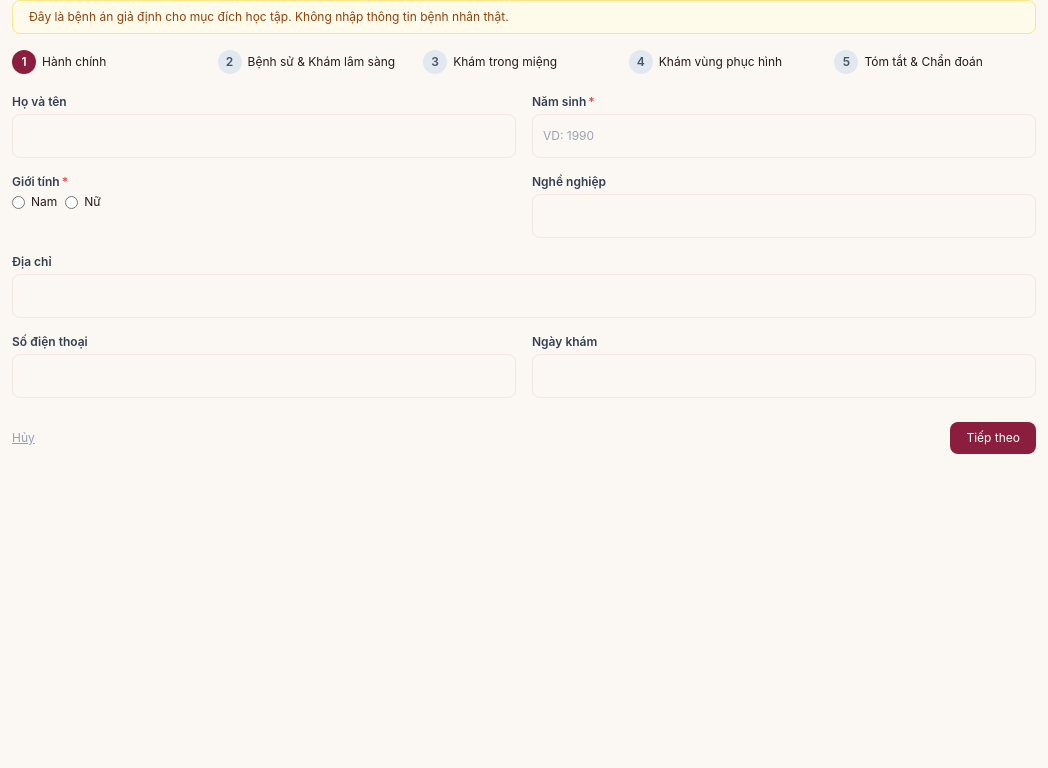
Test case: ClinicalRecordWizard – navigation › shows Back button after advancing to step 1
The image size is (1048, 768).
In the field labelled "Năm sinh*": [784, 136] box x1=532 y1=114 x2=1036 y2=158, type "1990"
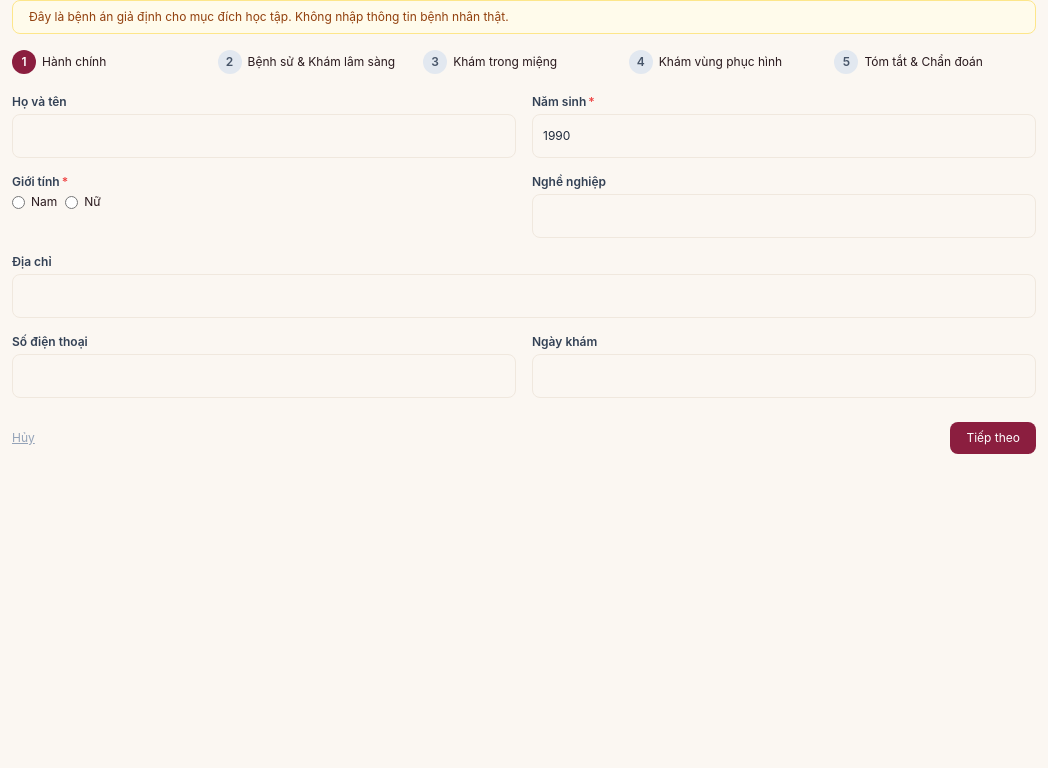
Click the radio button labelled "Nam": [18, 202] box x1=12 y1=196 x2=25 y2=208
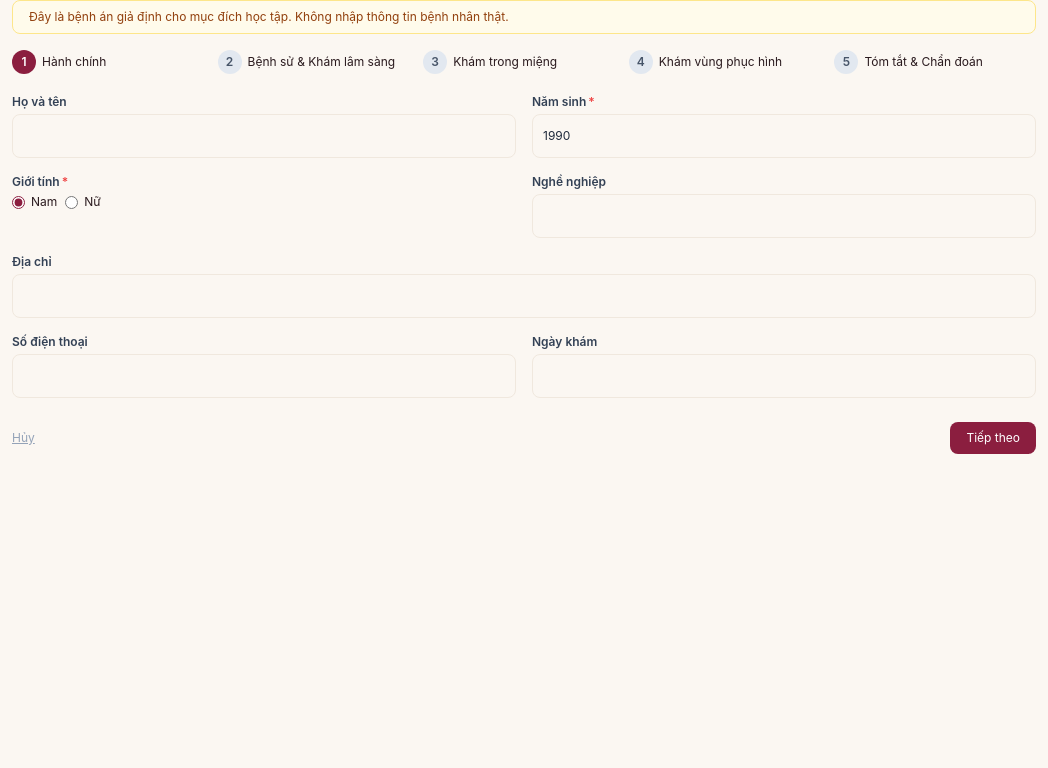
Click the button "Tiếp theo": [993, 438] box x1=950 y1=422 x2=1036 y2=454
(page scrolled)
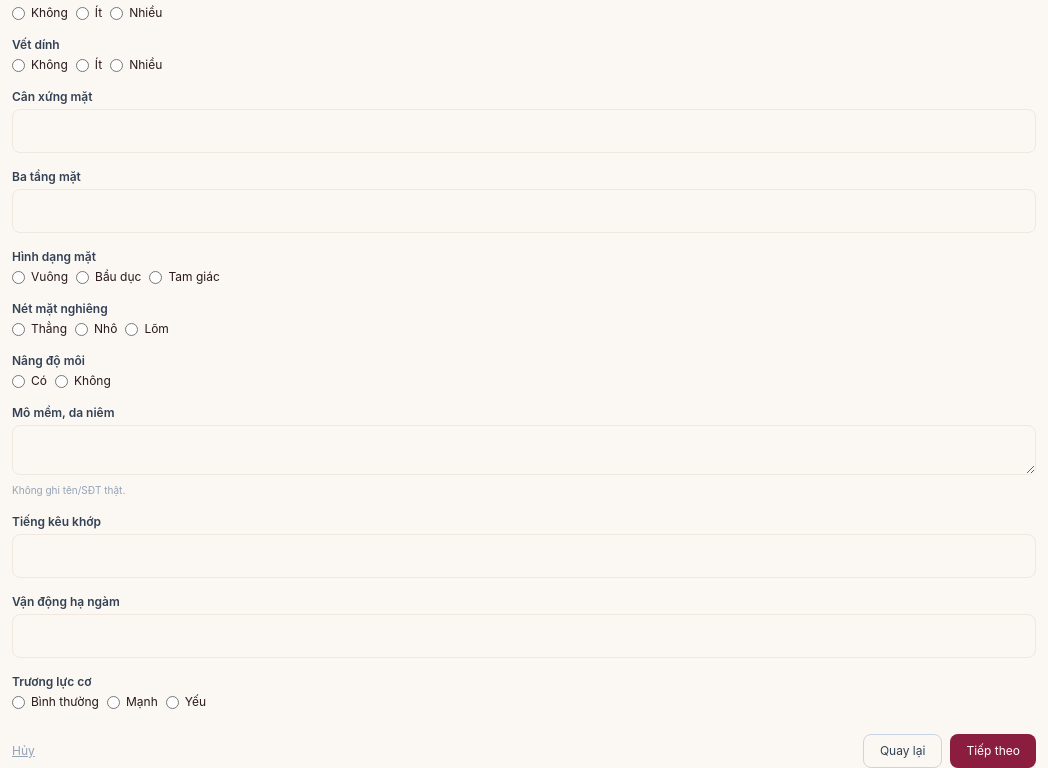
Check: the button "Quay lại" is shown, box x1=863 y1=734 x2=942 y2=767
